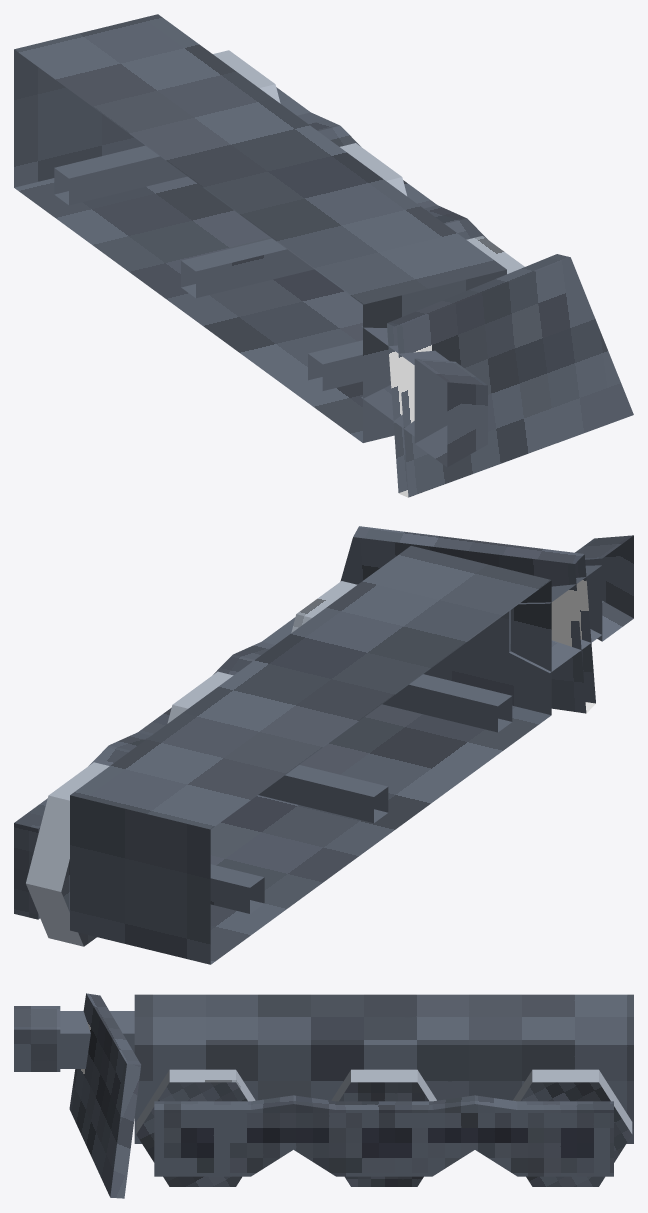
The model's file is diesel-locomotive-truck-front.blend.glb.
3 renders of one model, top to bottom at view 1: azimuth 30°, elevation 25°; view 2: azimuth 150°, elevation 25°; view 3: azimuth 270°, elevation 25°, orthographic. The views are drawn at different scales.
Visible parts, largest first — view 1: loco-front-truck; view 2: loco-front-truck; view 3: loco-front-truck.
Part boxes in pixels (x1,y1,x2,y2): loco-front-truck: [14, 14, 633, 497]; loco-front-truck: [14, 526, 633, 964]; loco-front-truck: [14, 993, 633, 1198].
Bounding box in the file's own units: 0.9046 × 0.6037 × 2.67.
Materials: 1 (1 with a texture image).
